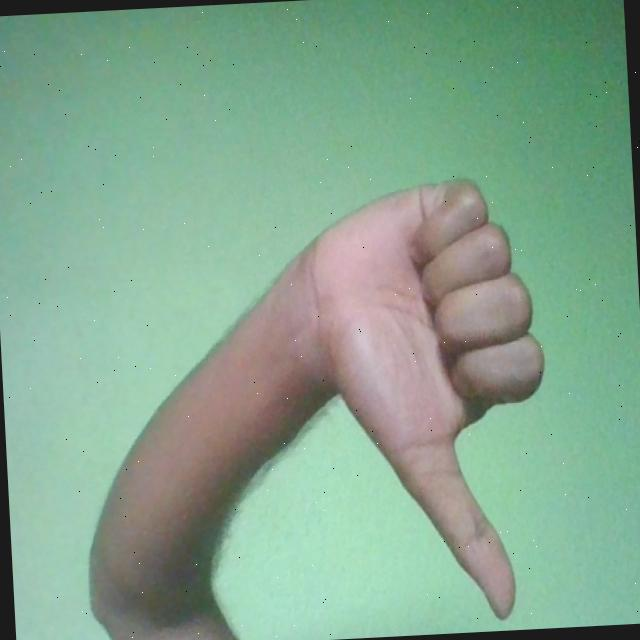Dislike: (302, 172, 558, 628)
